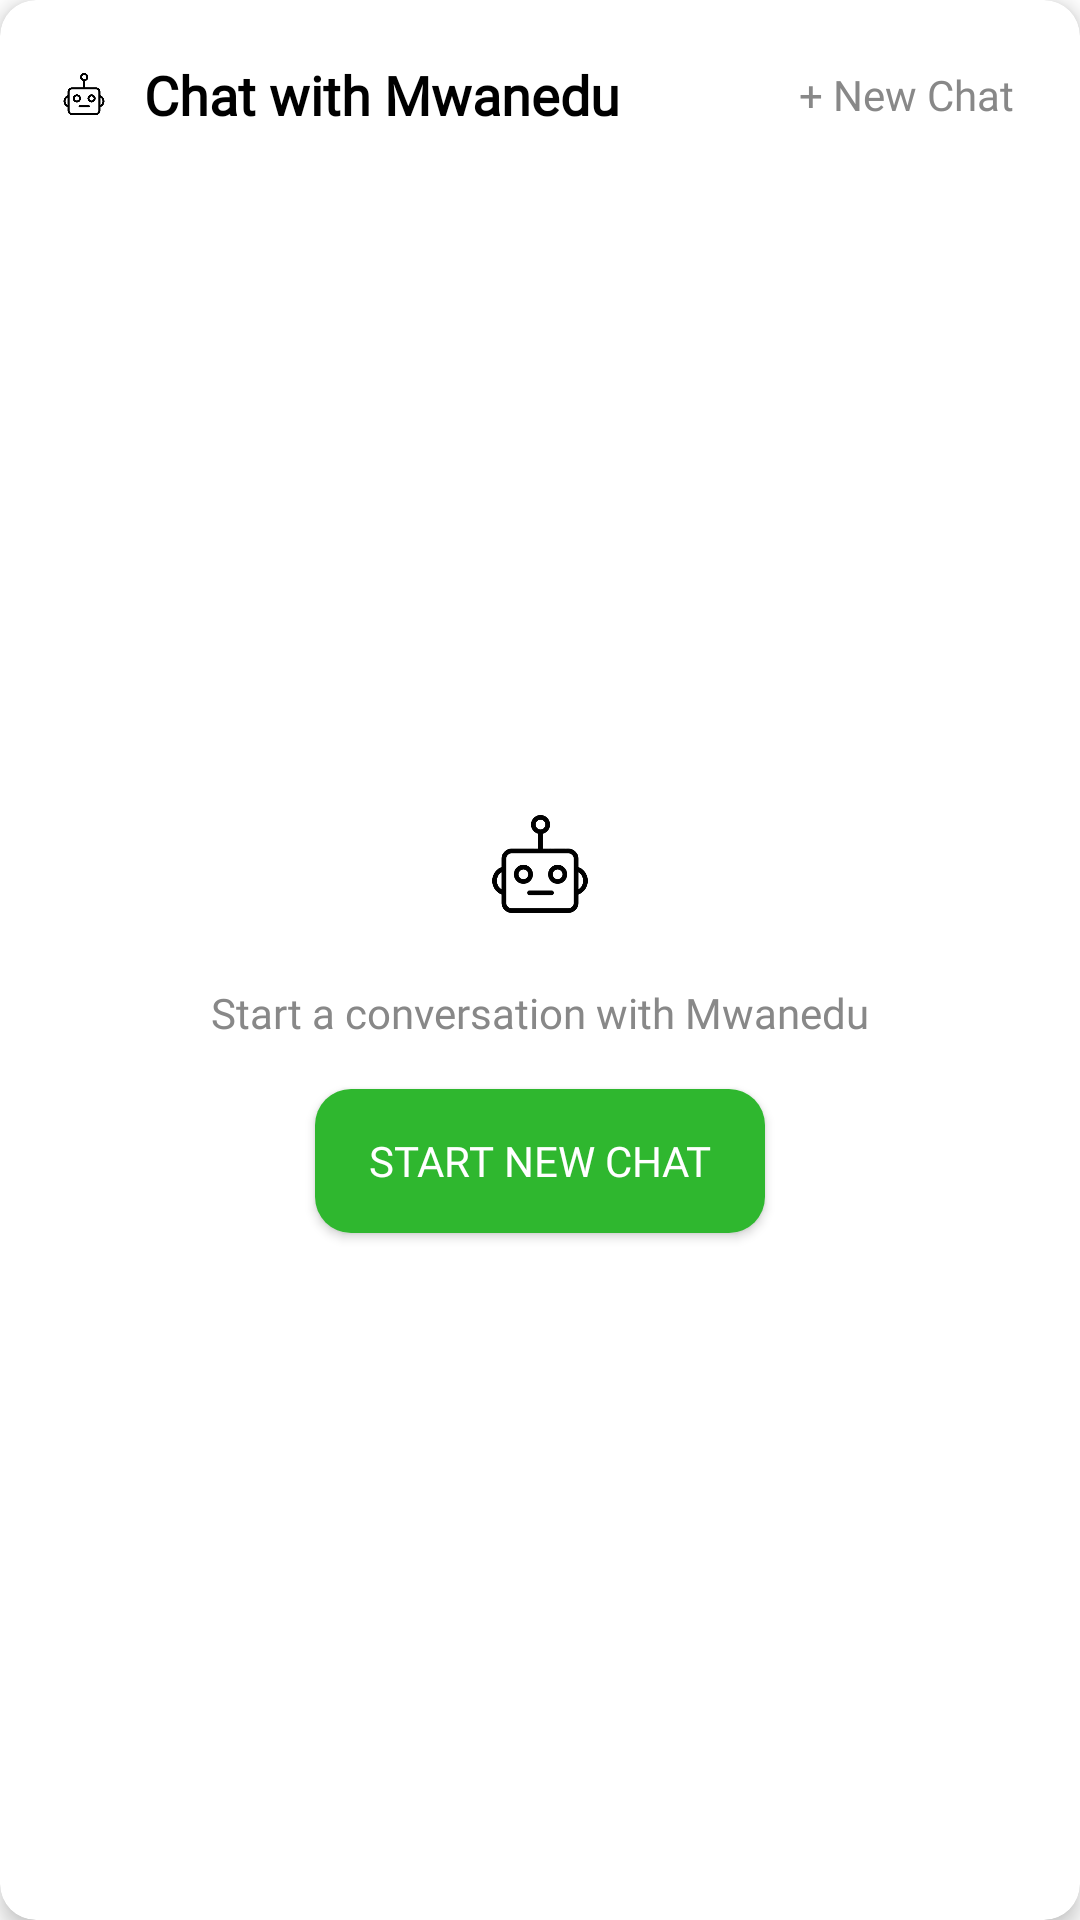

Where to tap for icons on this 1080x1920 app screen, as (x=x, y=y):
robot: (x=84, y=94), (x=540, y=864)
